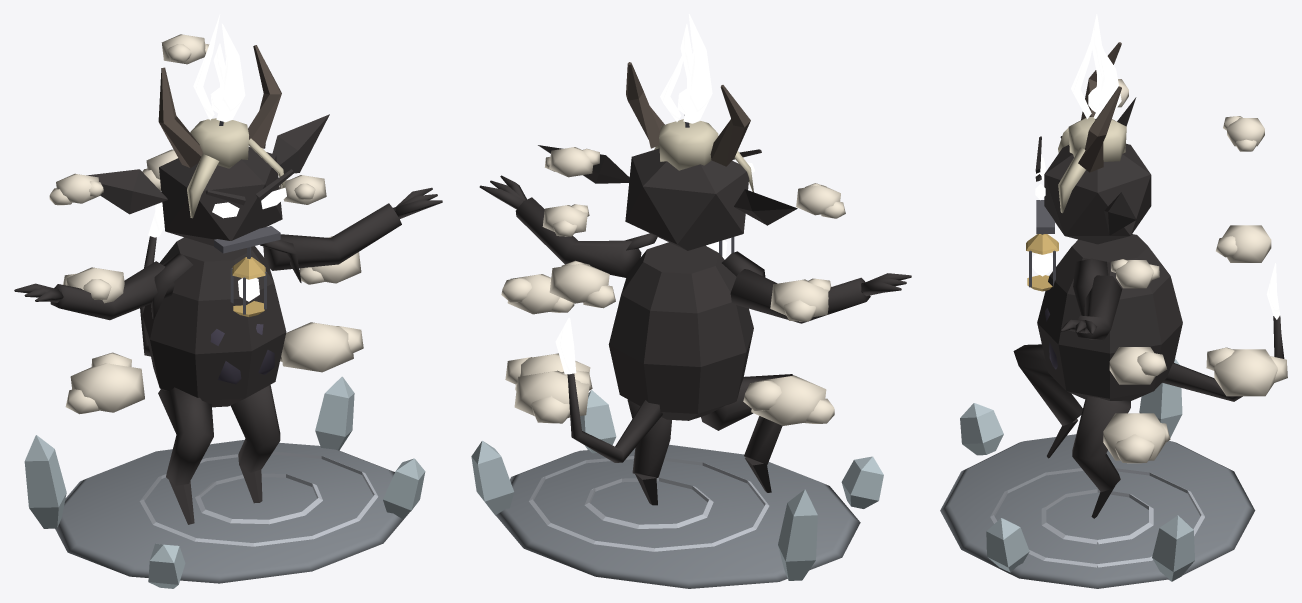
Rendered from fiend-thaw-fiend.glb.
3 views of the same model, side by side, from view 1: azimuth 30°, elevation 25°; view 2: azimuth 150°, elevation 25°; view 3: azimuth 270°, elevation 25° (orthographic). The views are drawn at different scales.
Visible parts, largest first — view 1: fiend_thaw_fiend; view 2: fiend_thaw_fiend; view 3: fiend_thaw_fiend.
Boxes of the visible parts, left/top/right/bottom form: fiend_thaw_fiend: left=14, top=14, right=442, bottom=588; fiend_thaw_fiend: left=471, top=14, right=911, bottom=588; fiend_thaw_fiend: left=940, top=14, right=1287, bottom=588.
Size of the model in its own units: 0.7638 by 0.88 by 0.5628.
